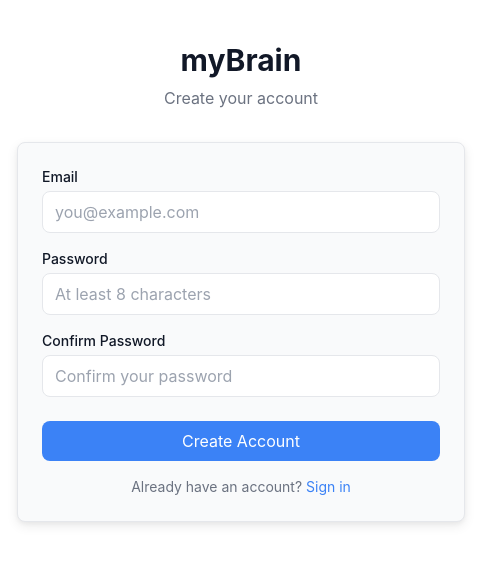
it: SignupPage › Client-Side Validation › shows error when email is empty
Type "password123" into the password field labelled "Password" at (241, 294), box [42,273,440,315]
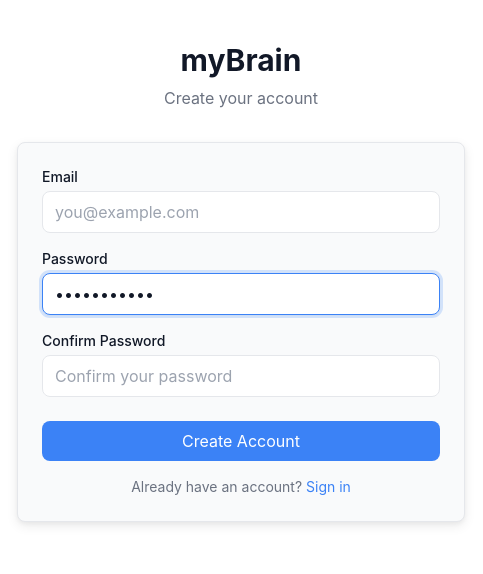
Type "password123" into the password field labelled "Confirm Password" at (241, 376), box [42,355,440,397]
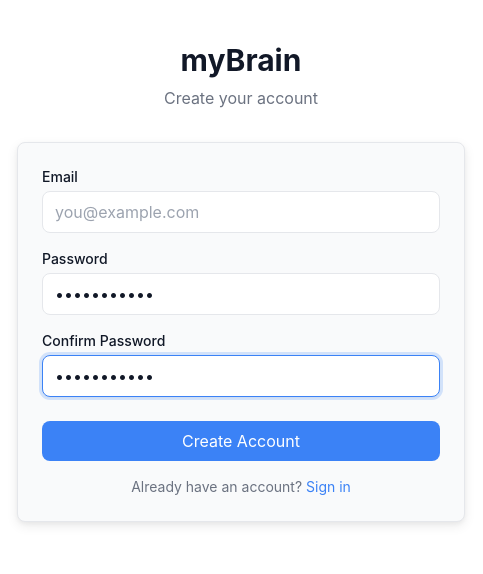
Click the button "Create Account" at (241, 441), box [42,421,440,461]
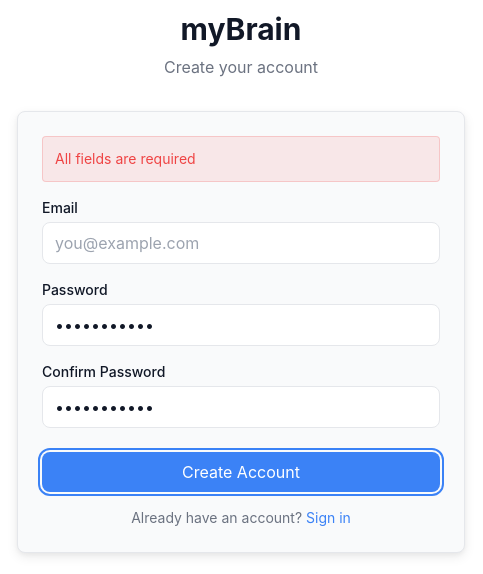
expect the text "All fields are required" is shown: met, box [42,136,440,182]
